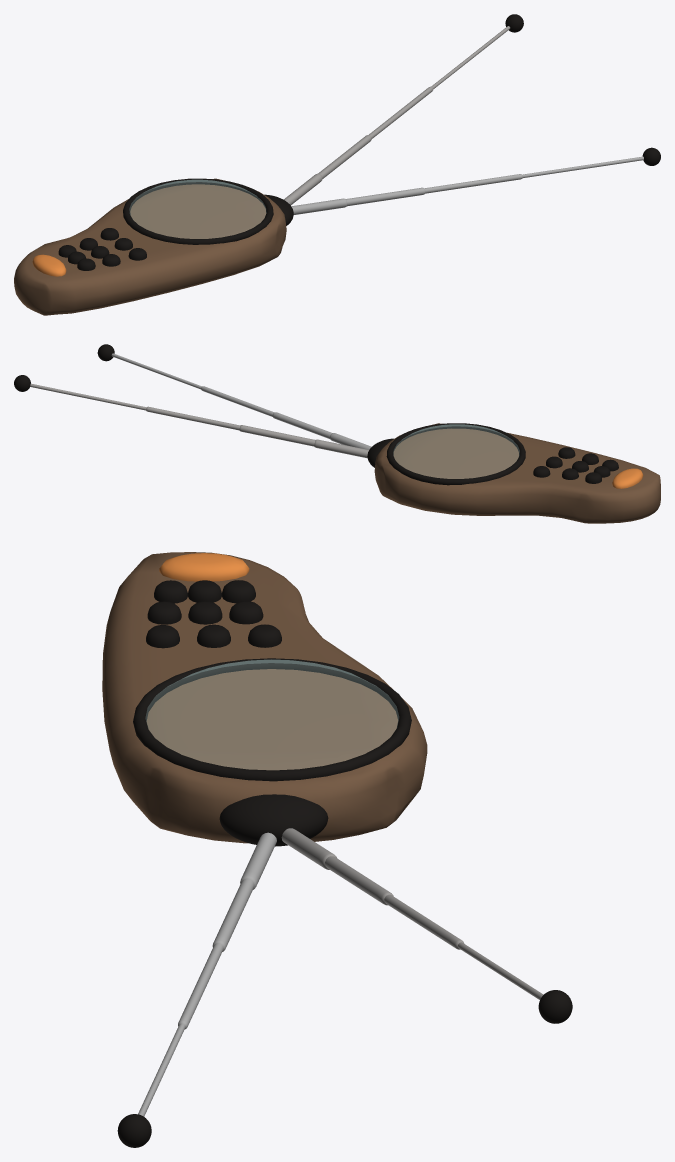
File: TVRemote.fbx
The picture shows the model from 3 angles, top to bottom: view 1: azimuth 30°, elevation 25°; view 2: azimuth 150°, elevation 25°; view 3: azimuth 270°, elevation 25°; orthographic projection. The views are drawn at different scales.
Visible parts, largest first — view 1: Body, Screen, Antena, Antena1, Buttons, BigButton; view 2: Body, Screen, Antena1, Antena, Buttons, BigButton; view 3: Body, Screen, Buttons, Antena, Antena1, BigButton.
Boxes of the visible parts, <box> form: Body: <box>14,178,293,315</box>; Screen: <box>130,180,265,238</box>; Antena: <box>291,147,660,214</box>; Antena1: <box>283,14,523,205</box>; Buttons: <box>58,228,146,270</box>; BigButton: <box>32,254,66,276</box>; Body: <box>367,423,660,523</box>; Screen: <box>394,424,519,478</box>; Antena1: <box>14,375,368,458</box>; Antena: <box>97,344,371,449</box>; Buttons: <box>533,447,618,483</box>; BigButton: <box>612,468,643,488</box>; Body: <box>102,552,427,846</box>; Screen: <box>146,659,398,769</box>; Buttons: <box>146,580,281,648</box>; Antena: <box>117,832,276,1147</box>; Antena1: <box>281,828,572,1023</box>; BigButton: <box>159,553,249,581</box>.
Bounding box in the file's own units: 4.23 × 0.5168 × 1.5.
